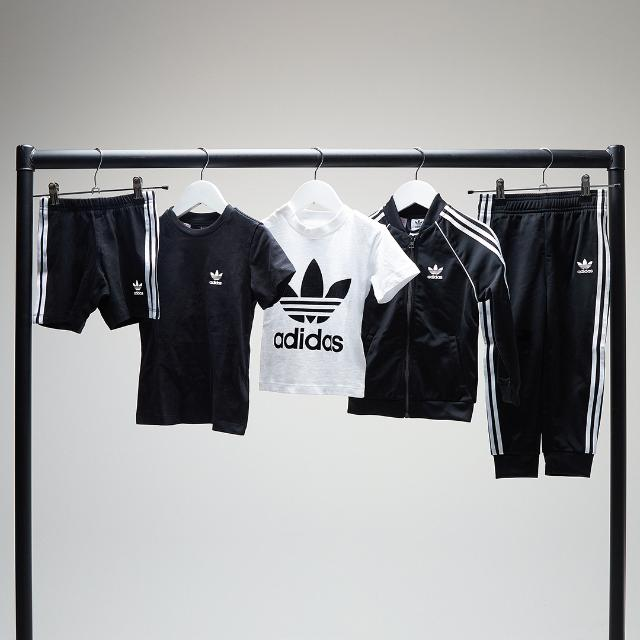Adidas: (278, 256, 358, 324), (270, 325, 351, 357), (424, 262, 448, 284), (575, 258, 595, 278), (208, 268, 226, 286), (130, 280, 146, 296)
